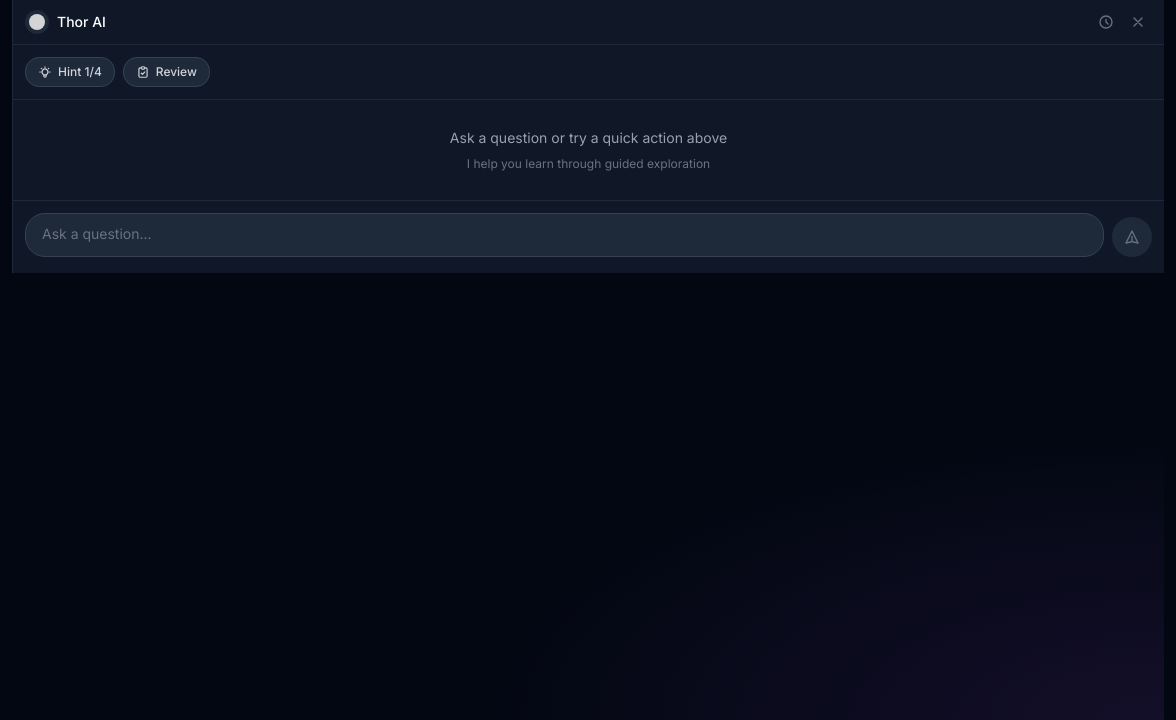
Test: AIChatPanel › toggles history panel when history button is clicked
Check: the text "Previous Chats" is not shown
Click the button titled "Chat history".
click(1106, 22)  # box [1092,8,1120,36]
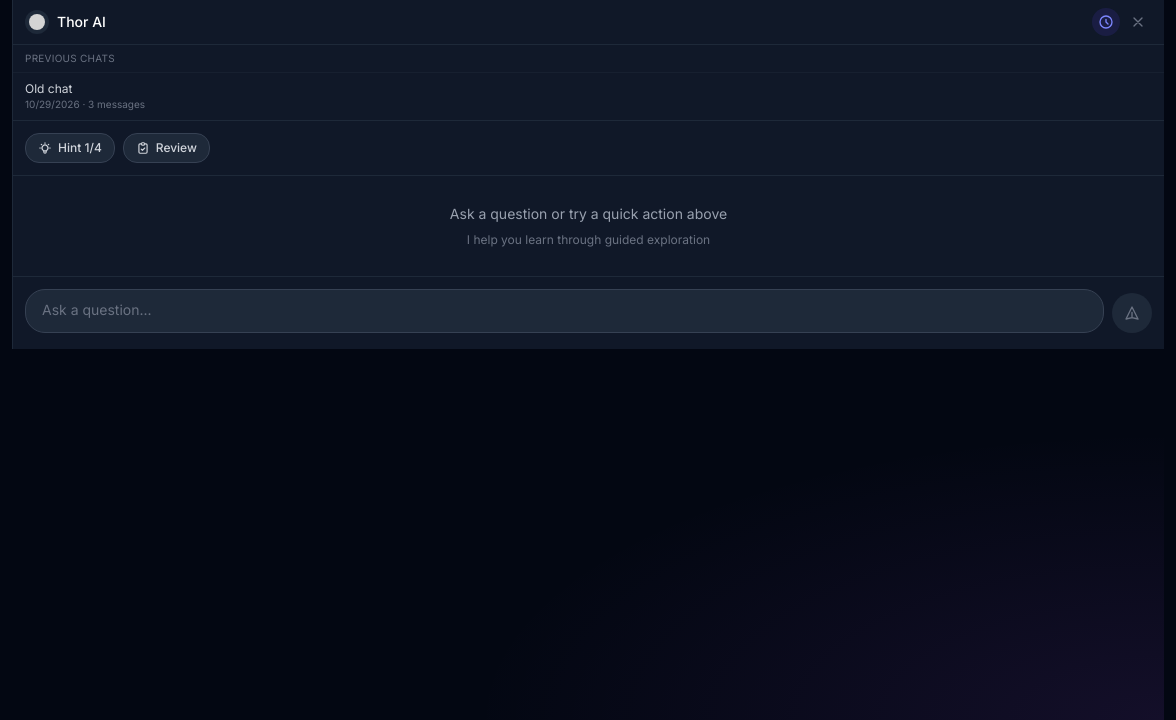
Check: the text "Previous Chats" is shown, box [25,52,115,64]
Check: the text "Old chat" is shown, box [25,81,72,96]
Click the button titled "Chat history".
click(1106, 22)  # box [1092,8,1120,36]
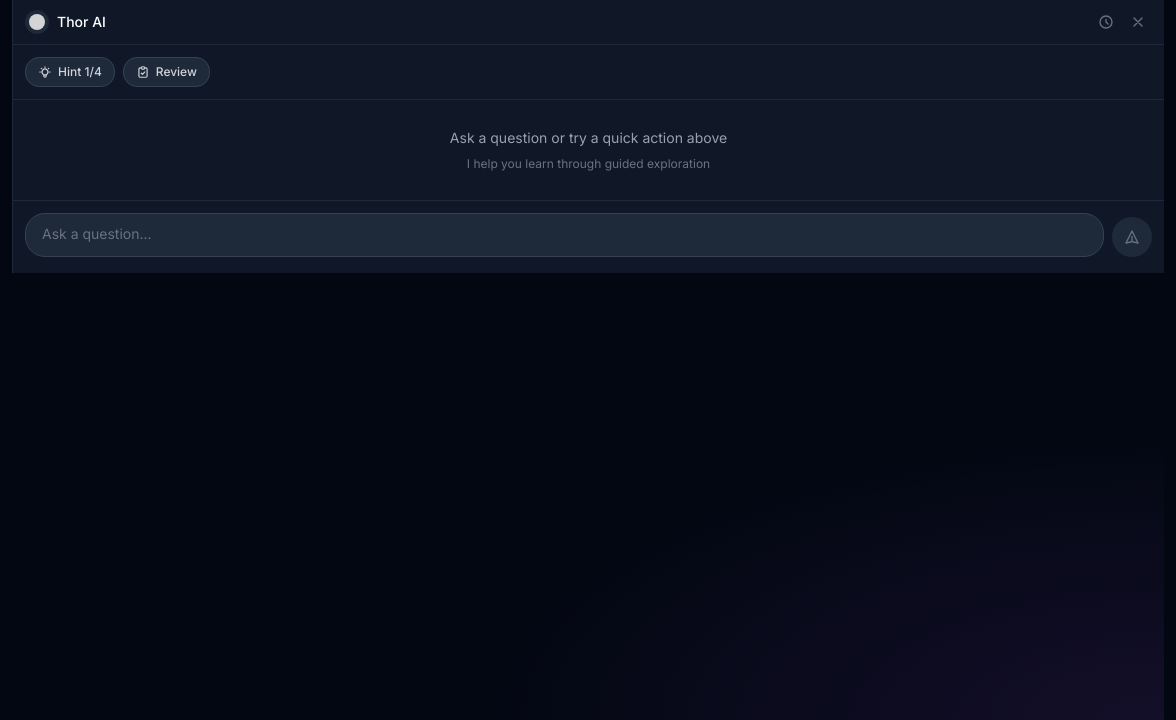
Check: the text "Previous Chats" is gone
